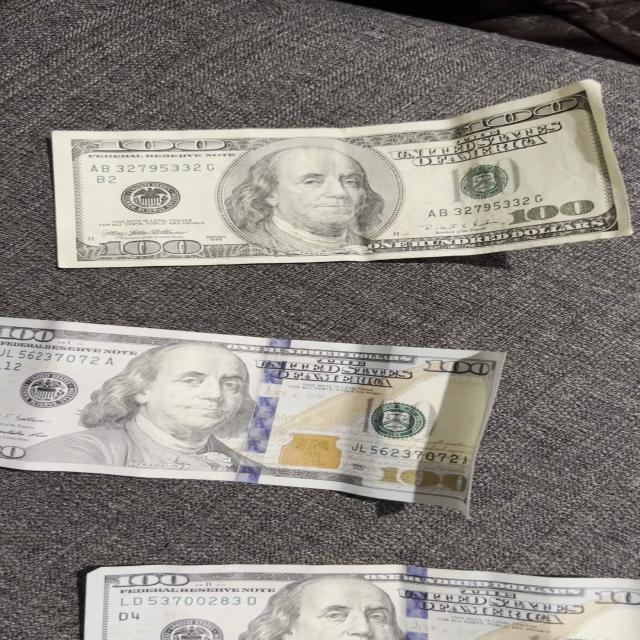hundred: (50, 80, 630, 270), (0, 314, 508, 520), (80, 563, 640, 640)
